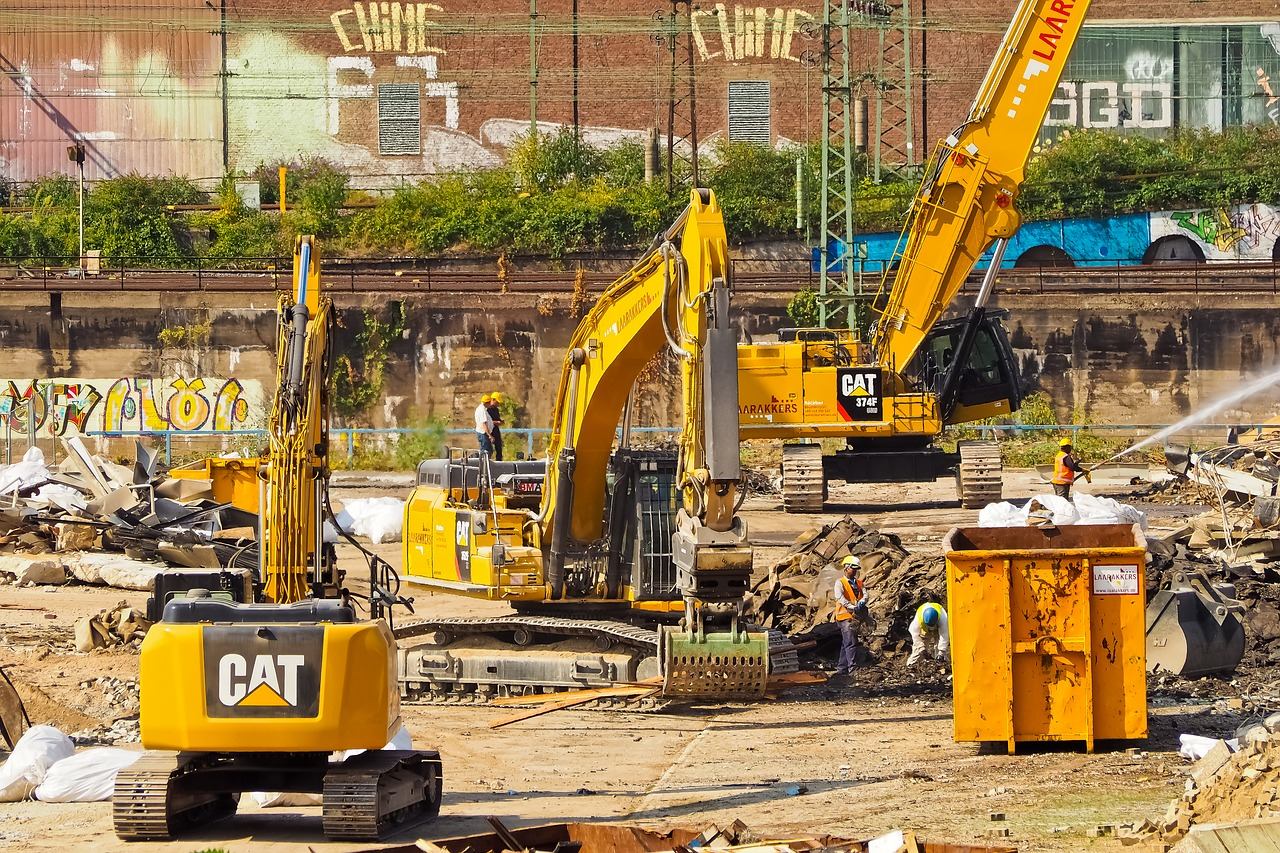excavator: (109, 235, 437, 849), (723, 0, 1105, 509), (396, 182, 766, 699)
